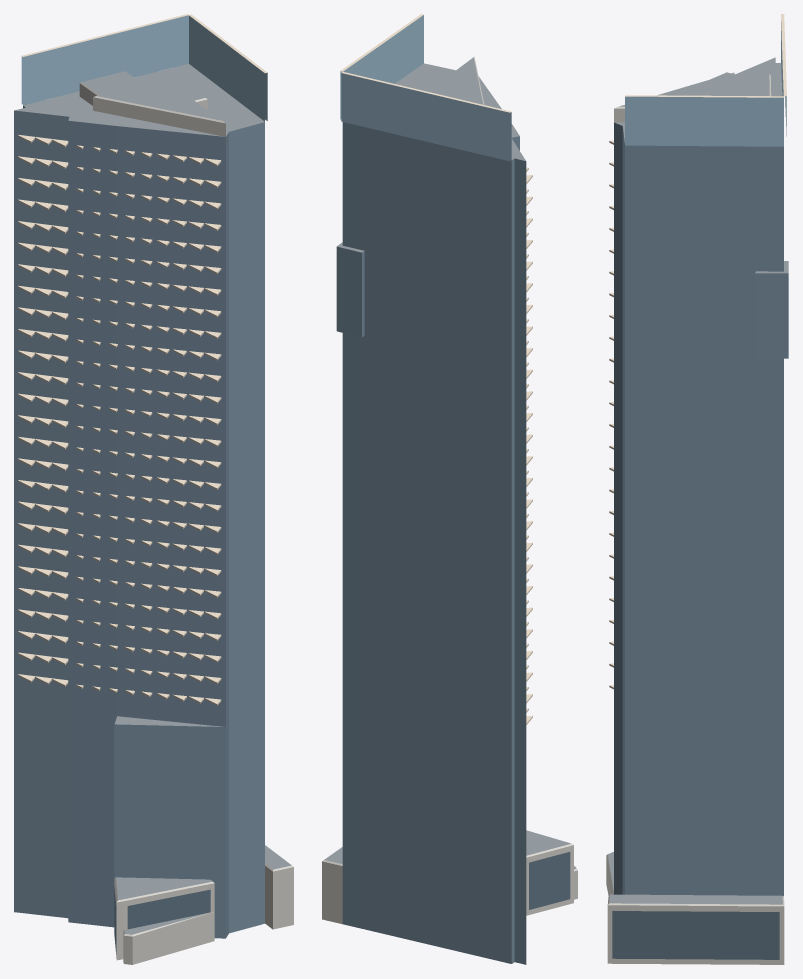
File: van-living-shangri-la.glb
3 views of the same model, side by side, from view 1: azimuth 30°, elevation 25°; view 2: azimuth 150°, elevation 25°; view 3: azimuth 270°, elevation 25° (orthographic).
Parts seen in each view (by area): view 1: Living Shangri-La; view 2: Living Shangri-La; view 3: Living Shangri-La.
Boxes of the visible parts, left/top/right/bottom form: Living Shangri-La: left=14, top=14, right=293, bottom=964; Living Shangri-La: left=322, top=14, right=577, bottom=964; Living Shangri-La: left=606, top=14, right=788, bottom=964.
Size of the model in its own units: 49.33 by 201 by 38.7.
